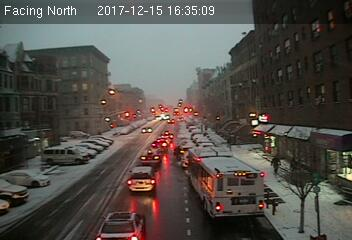bus: (188, 148, 266, 221)
car: (95, 210, 142, 240), (128, 167, 156, 194), (138, 149, 161, 165), (151, 138, 167, 150)
pedestrian: (271, 153, 280, 178)
